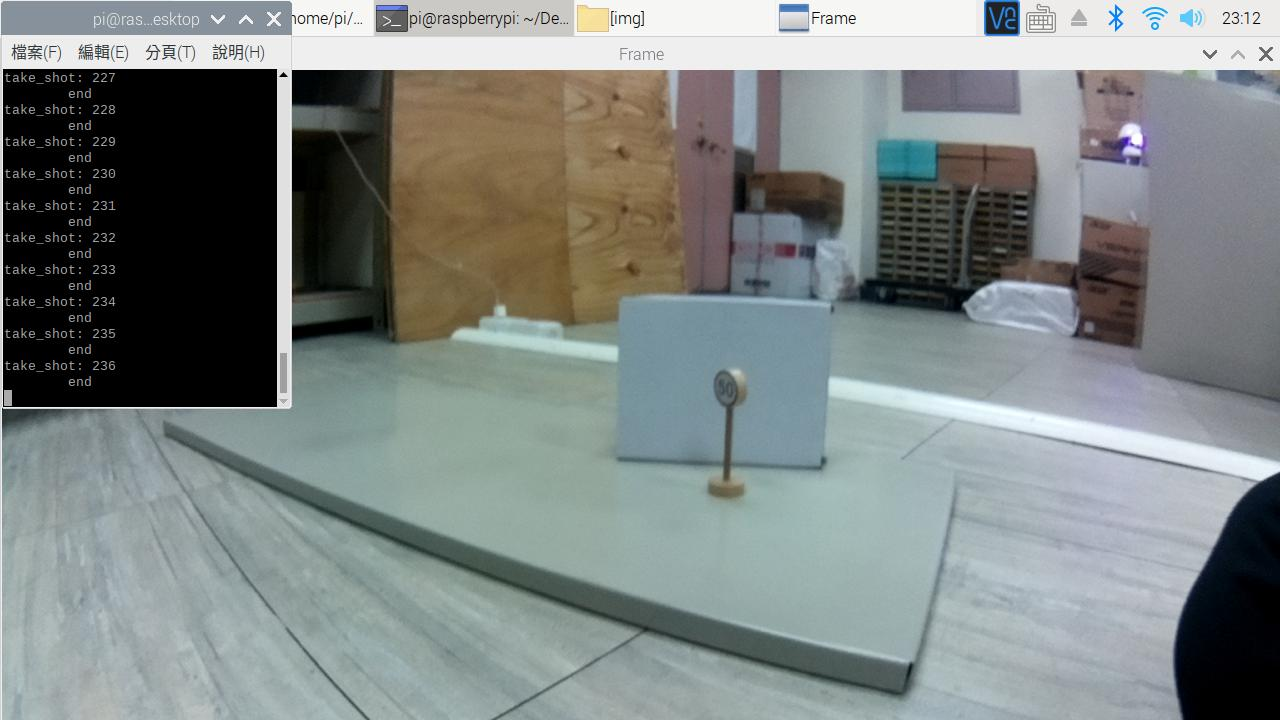Speed50: (704, 359, 753, 413)
